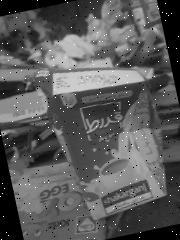paper: (29, 47, 176, 226), (9, 152, 110, 240)
